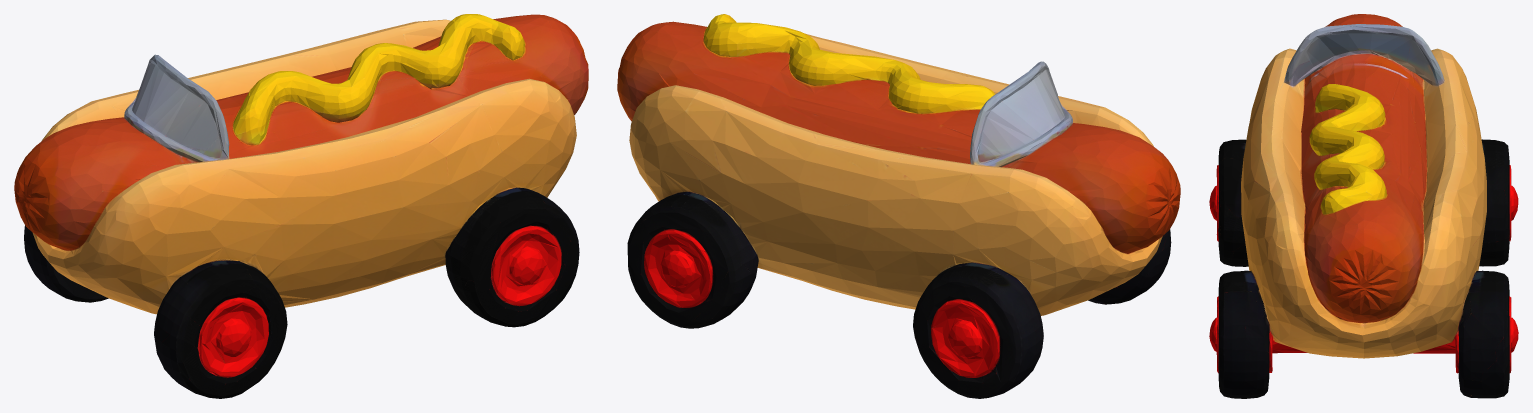
Rendered from hotdog_wagon.glb.
3 views of the same model, side by side, from view 1: azimuth 30°, elevation 25°; view 2: azimuth 150°, elevation 25°; view 3: azimuth 270°, elevation 25° (orthographic). The views are drawn at different scales.
Parts seen in each view (by area): view 1: geometry_0; view 2: geometry_0; view 3: geometry_0.
Boxes of the visible parts, x1,y1,x2,y2 form: geometry_0: (14, 14, 588, 398); geometry_0: (617, 14, 1180, 398); geometry_0: (1209, 14, 1518, 398).
Bounding box in the file's own units: 1.9 × 0.8736 × 0.9929.
1 material, 1 textured.
